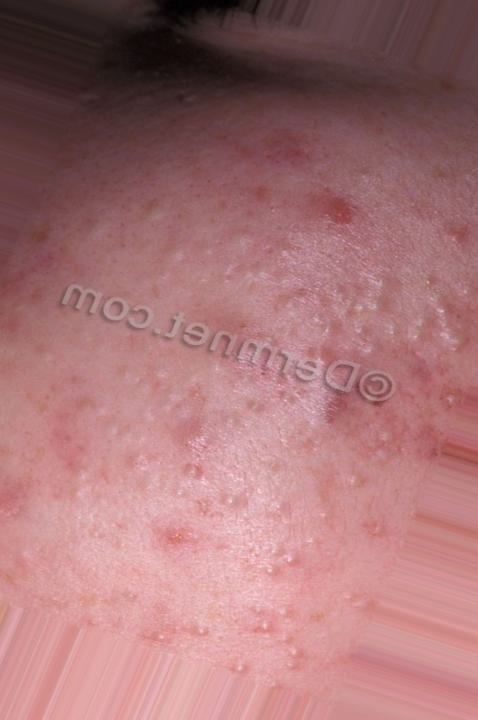Acne: (22, 109, 451, 580)
